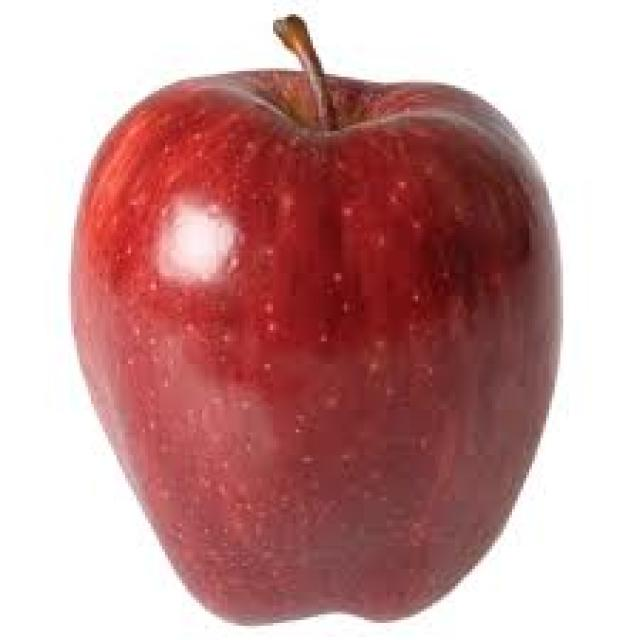apple: (60, 6, 577, 632)
